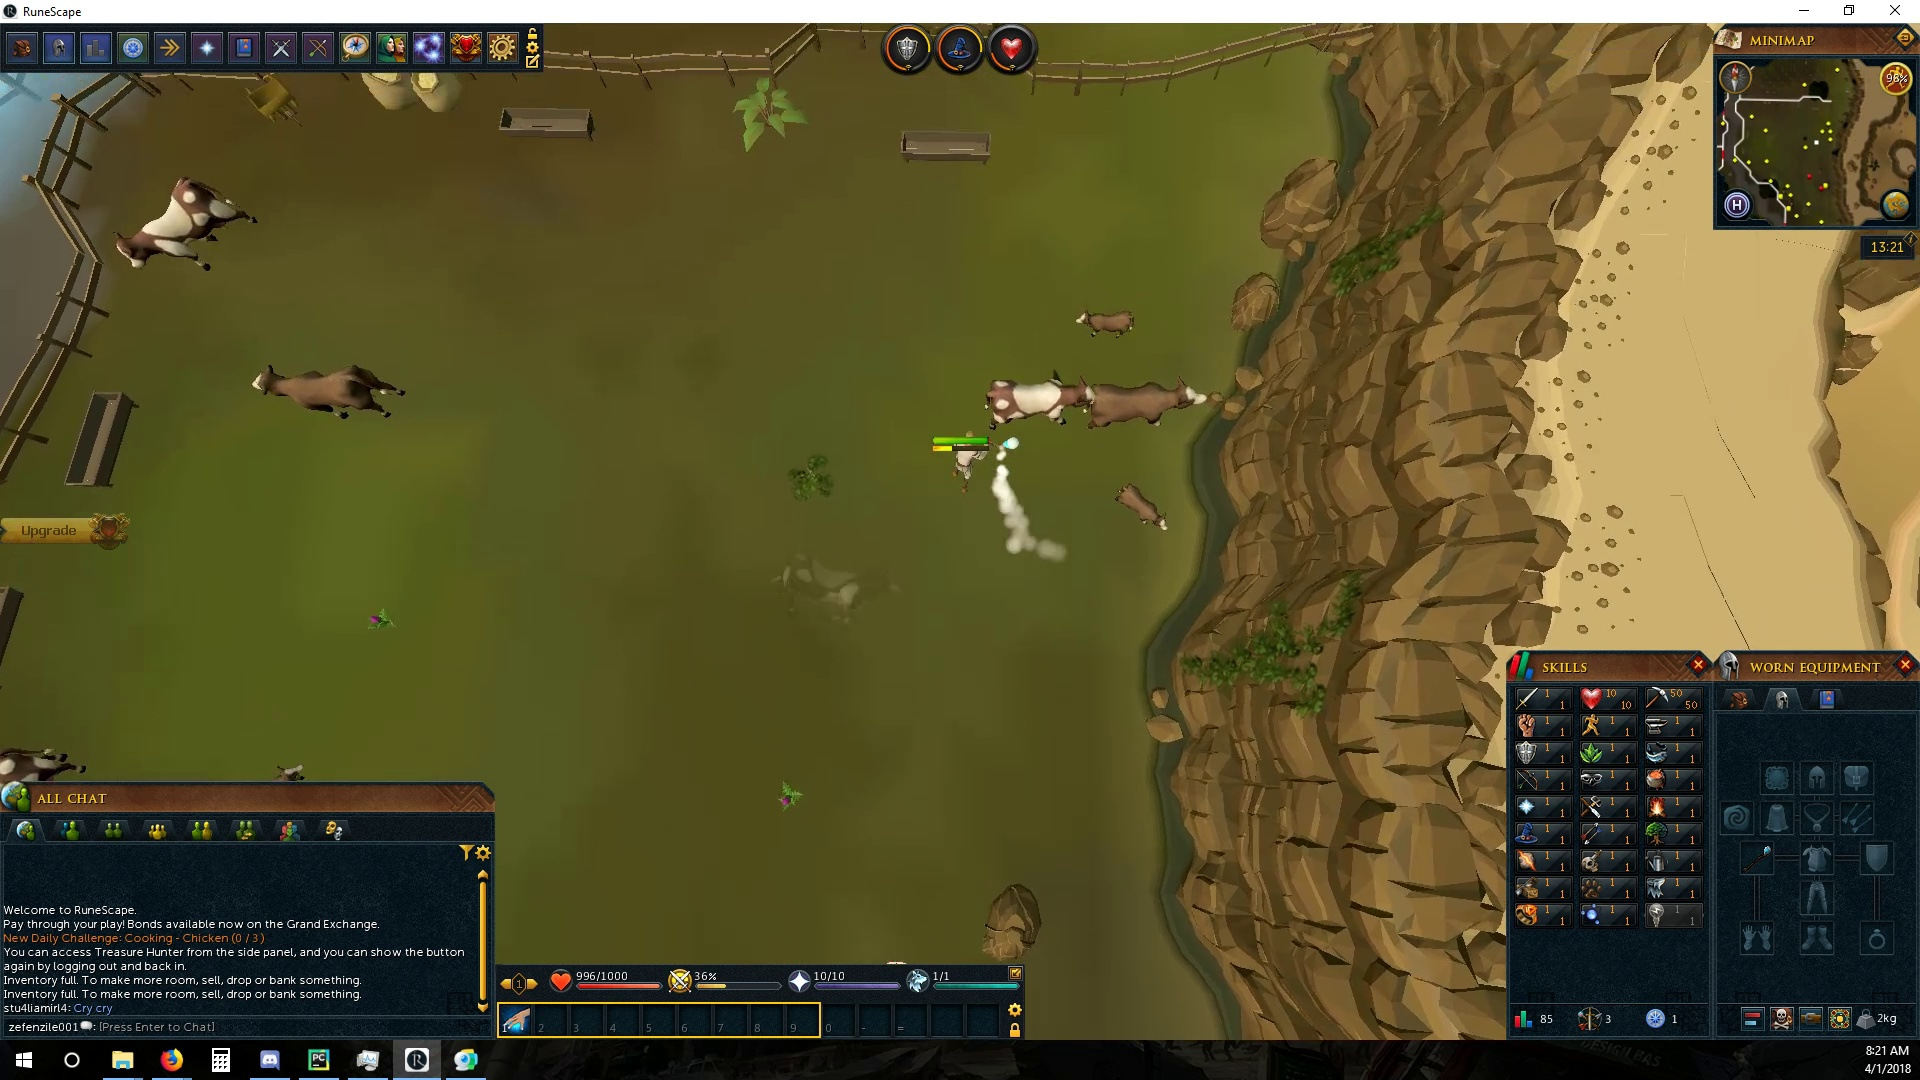calf: (1112, 479, 1171, 531), (1073, 307, 1137, 340)
cow: (112, 175, 258, 276), (243, 360, 407, 426), (986, 371, 1096, 438), (1087, 378, 1215, 434)
